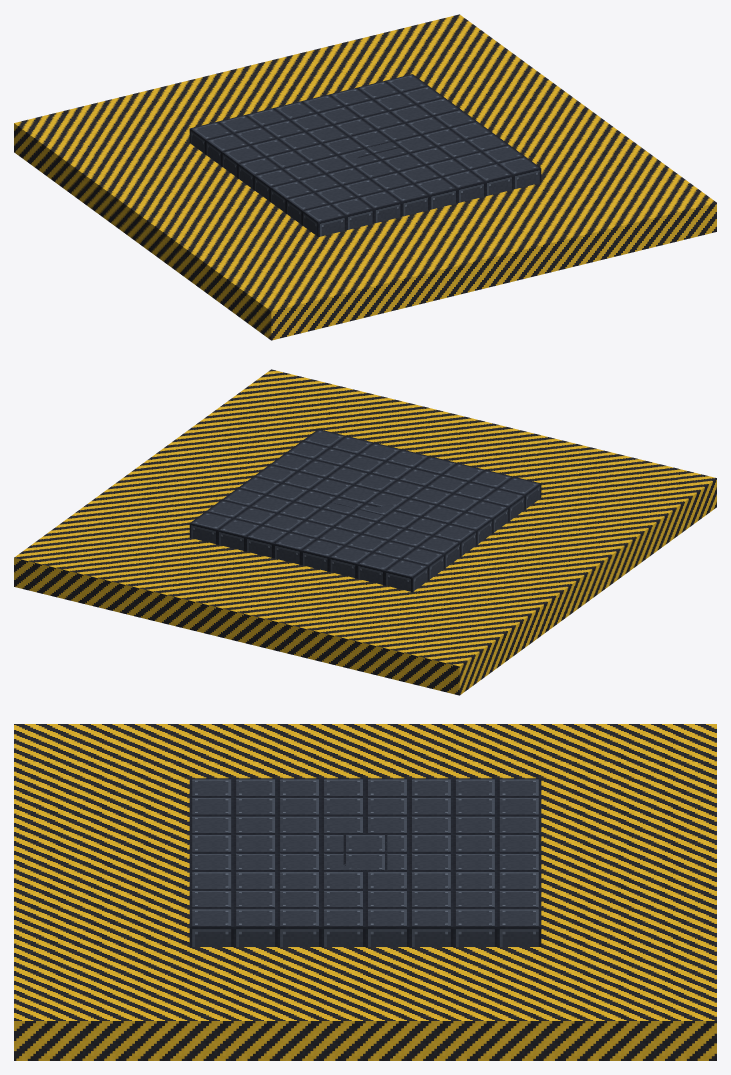
File: Blocks_new.fbx
The picture shows the model from 3 angles, top to bottom: view 1: azimuth 30°, elevation 25°; view 2: azimuth 150°, elevation 25°; view 3: azimuth 270°, elevation 25°; orthographic projection. The views are drawn at different scales.
Parts seen in each view (by area): view 1: Merged_Hazard_16x1x16, Merged_HullDark_8x2x8, Merged_HullDark_4x2x4, Merged_HullDark_4x2x2, Merged_HullDark_2x2x2; view 2: Merged_Hazard_16x1x16, Merged_HullDark_8x2x8, Merged_HullDark_4x2x4, Merged_HullDark_4x2x2, Merged_HullDark_2x2x2; view 3: Merged_Hazard_16x1x16, Merged_HullDark_8x2x8, Merged_HullDark_4x2x4, Merged_HullDark_4x2x2, Merged_HullDark_2x2x2, Merged_HullDark_2x2x1.
Boxes of the visible parts, x1,y1,x2,y2 form: Merged_Hazard_16x1x16: [14, 14, 716, 340]; Merged_HullDark_8x2x8: [189, 74, 541, 236]; Merged_HullDark_4x2x4: [278, 111, 452, 185]; Merged_HullDark_4x2x2: [294, 123, 436, 173]; Merged_HullDark_2x2x2: [322, 130, 408, 166]; Merged_Hazard_16x1x16: [14, 369, 716, 695]; Merged_HullDark_8x2x8: [189, 429, 541, 591]; Merged_HullDark_4x2x4: [278, 466, 452, 540]; Merged_HullDark_4x2x2: [294, 478, 436, 528]; Merged_HullDark_2x2x2: [322, 485, 408, 521]; Merged_Hazard_16x1x16: [14, 724, 716, 1060]; Merged_HullDark_8x2x8: [189, 778, 541, 946]; Merged_HullDark_4x2x4: [277, 815, 453, 889]; Merged_HullDark_4x2x2: [321, 815, 409, 889]; Merged_HullDark_2x2x2: [321, 834, 409, 871]; Merged_HullDark_2x2x1: [343, 834, 387, 871].
Bounding box in the file's own units: 48 × 6 × 48.
Materials: 1 (1 with a texture image).
